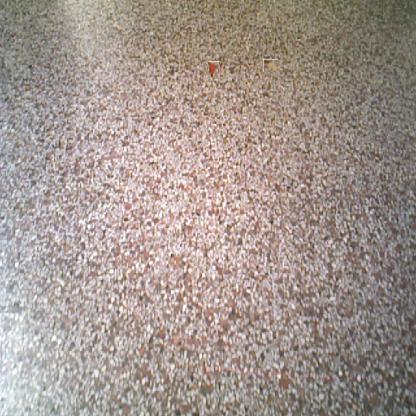dirty: (207, 62, 222, 77), (263, 59, 278, 72)
